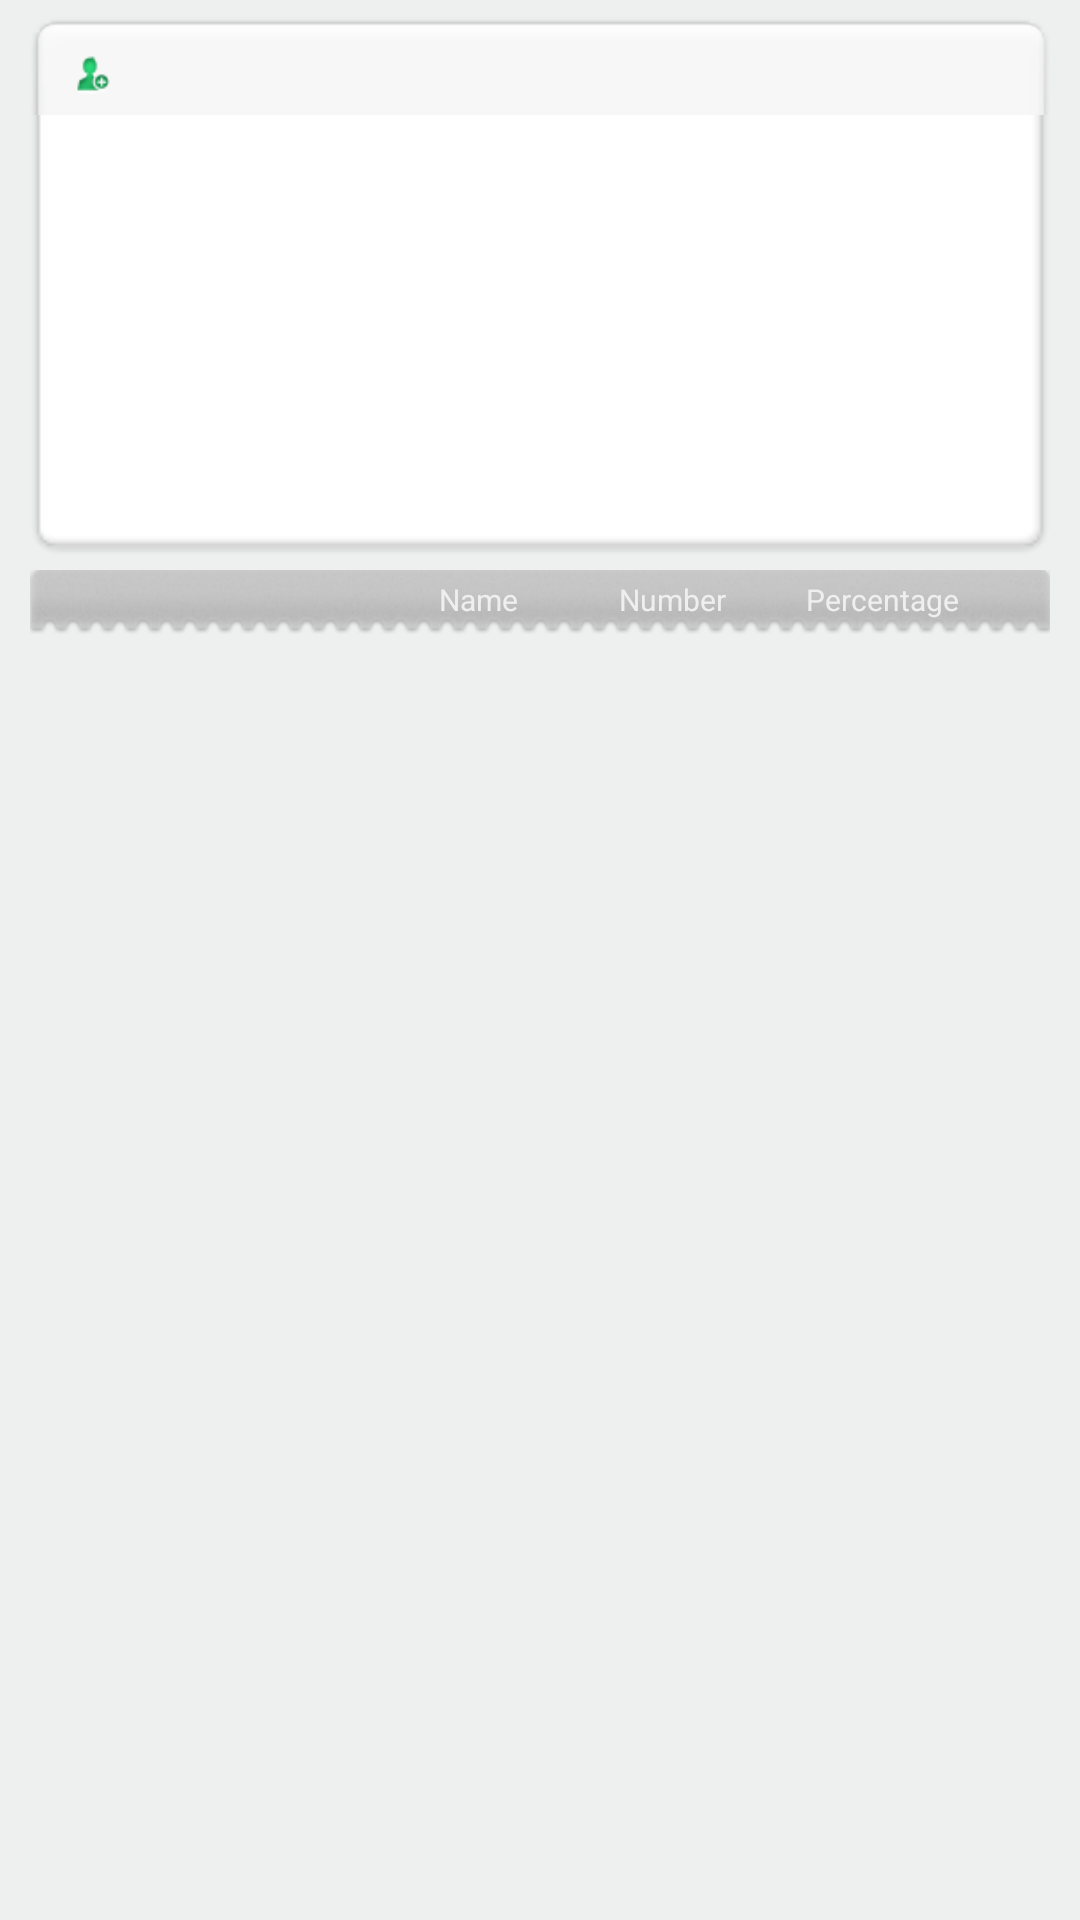

Icon bounding boxes for this 1080*1920 phone screenshot, format (x1, y1, x2, y2):
users: (77, 56, 110, 91)
